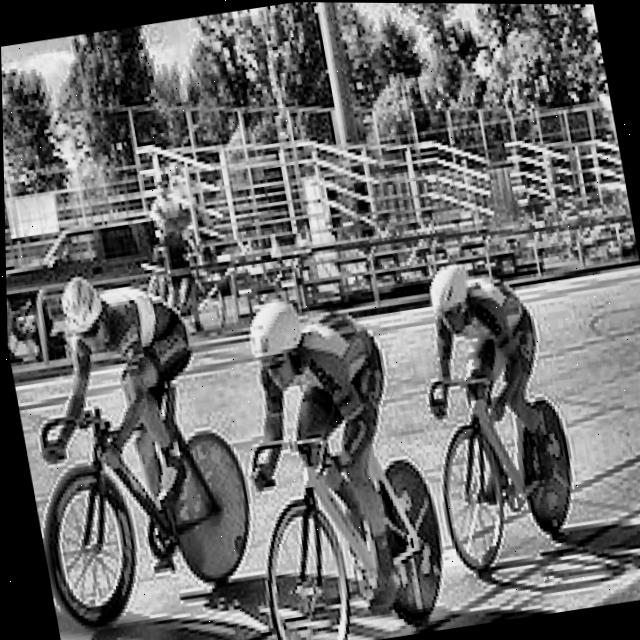light_vehicle: (3, 200, 183, 347)
